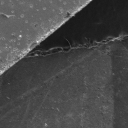corrosion: (58, 7, 65, 14), (19, 13, 25, 19), (16, 40, 22, 46), (29, 3, 35, 9), (42, 6, 47, 11)
